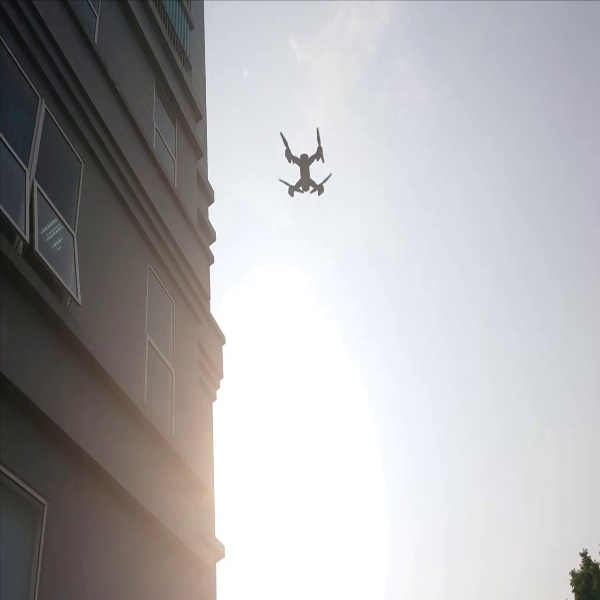drone: (266, 116, 340, 205)
